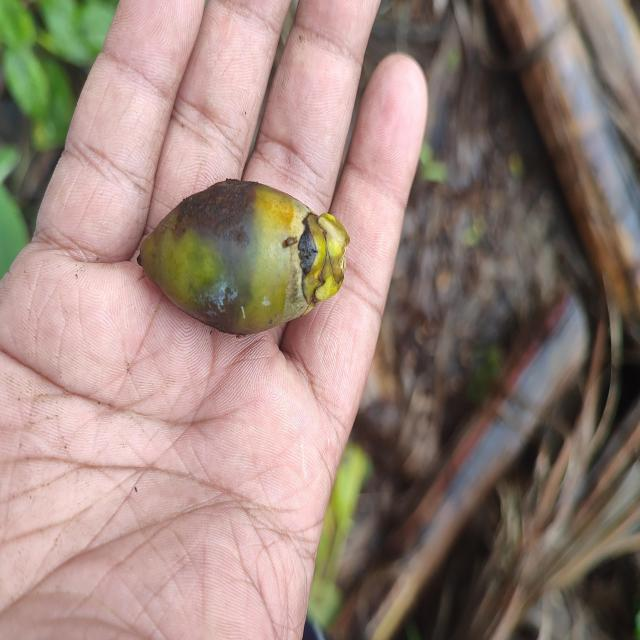damaged: (138, 180, 349, 334)
